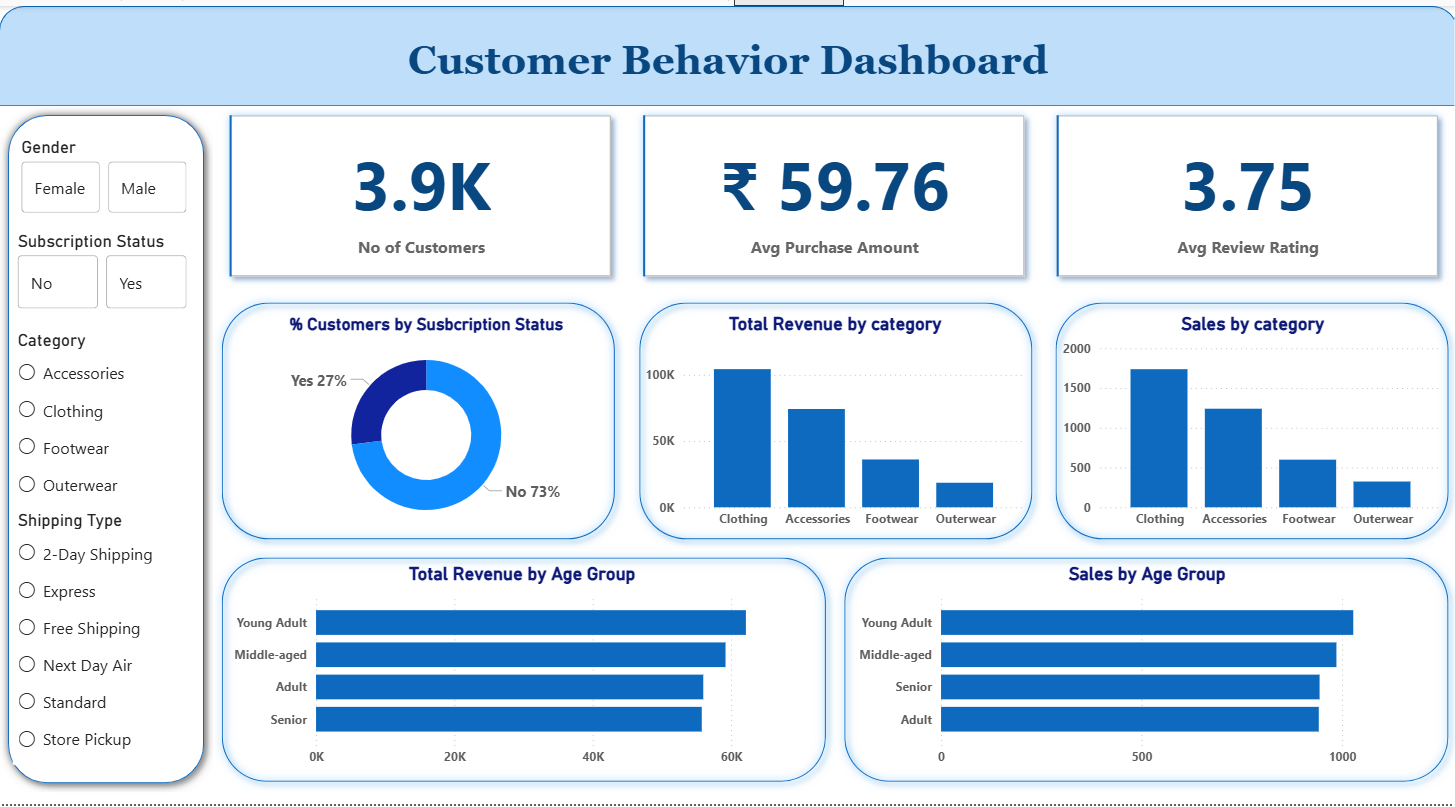

The page's visual inventory and layout, read from the dashboard file:
{"tool":"powerbi","page":{"name":"Page 1","canvas":[1450,794],"ordinal":0},"visuals":[{"type":"cardVisual","fields":{"Data":["customer.No of Customers","customer.Avg Purchase Amount","customer.Avg Review Rating"]},"box":[213,91.7,1237.4,194.3],"z":0},{"type":"shape","box":[0,0,1450.3,99.5],"z":1000},{"type":"shape","box":[0,99.5,213,682.4],"z":2000},{"type":"advancedSlicerVisual","fields":{"Values":["customer.subscription_status"]},"box":[13.7,223.7,178.4,82.3],"z":3000},{"type":"advancedSlicerVisual","fields":{"Values":["customer.gender"]},"box":[17.8,130.4,174.3,81],"z":4000},{"type":"listSlicer","fields":{"Values":["customer.category"]},"box":[14,321.8,175.7,178.8],"z":5000},{"type":"listSlicer","fields":{"Values":["customer.shipping_type"]},"box":[14,500.5,180.3,253.4],"z":6000},{"type":"shape","box":[213,286,408.8,253.4],"z":7000},{"type":"shape","box":[627.2,286,408.8,253.4],"z":8000},{"type":"shape","box":[1041.2,286,408.8,253.4],"z":9000},{"type":"shape","box":[213,539.4,618.7,240.9],"z":10000},{"type":"donutChart","title":"% Customers by Susbcription Status","fields":{"Category":["customer.subscription_status"],"Y":["customer.No of Customers"]},"box":[227.1,306.1,395,222.9],"z":11000},{"type":"columnChart","fields":{"Y":["customer.Total Revenue"],"Category":["customer.category"]},"box":[637.7,306.1,388,222.9],"z":12000},{"type":"shape","box":[831.6,539.4,618.7,240.9],"z":13000},{"type":"columnChart","title":"Sales by category","fields":{"Y":["customer.No of Customers"],"Category":["customer.category"]},"box":[1052.4,306.1,388,222.9],"z":14000},{"type":"barChart","title":"Total Revenue by Age Group","fields":{"Y":["customer.Total Revenue"],"Category":["customer.age_group"]},"box":[227.1,554.4,585.5,210.2],"z":15000},{"type":"barChart","title":"Sales by Age Group","fields":{"Y":["customer.No of Customers"],"Category":["customer.age_group"]},"box":[849.3,554.4,585.5,210.2],"z":15001}]}

Visuals, with their boxes in screenshot pixels (x1, y1, x2, y2), scaled from the page's 1450x794 canvas onto the 1455x807 screenshot:
cardVisual - customer.No of Customers x customer.Avg Purchase Amount: bbox(214, 93, 1454, 291)
shape: bbox(0, 0, 1454, 101)
shape: bbox(0, 101, 214, 795)
advancedSlicerVisual - customer.subscription_status: bbox(14, 227, 193, 311)
advancedSlicerVisual - customer.gender: bbox(18, 133, 193, 215)
listSlicer - customer.category: bbox(14, 327, 190, 509)
listSlicer - customer.shipping_type: bbox(14, 509, 195, 766)
shape: bbox(214, 291, 624, 548)
shape: bbox(629, 291, 1040, 548)
shape: bbox(1045, 291, 1454, 548)
shape: bbox(214, 548, 835, 793)
"% Customers by Susbcription Status" donutChart: bbox(228, 311, 624, 538)
columnChart - customer.Total Revenue x customer.category: bbox(640, 311, 1029, 538)
shape: bbox(834, 548, 1454, 793)
"Sales by category" columnChart: bbox(1056, 311, 1445, 538)
"Total Revenue by Age Group" barChart: bbox(228, 563, 815, 777)
"Sales by Age Group" barChart: bbox(852, 563, 1440, 777)
